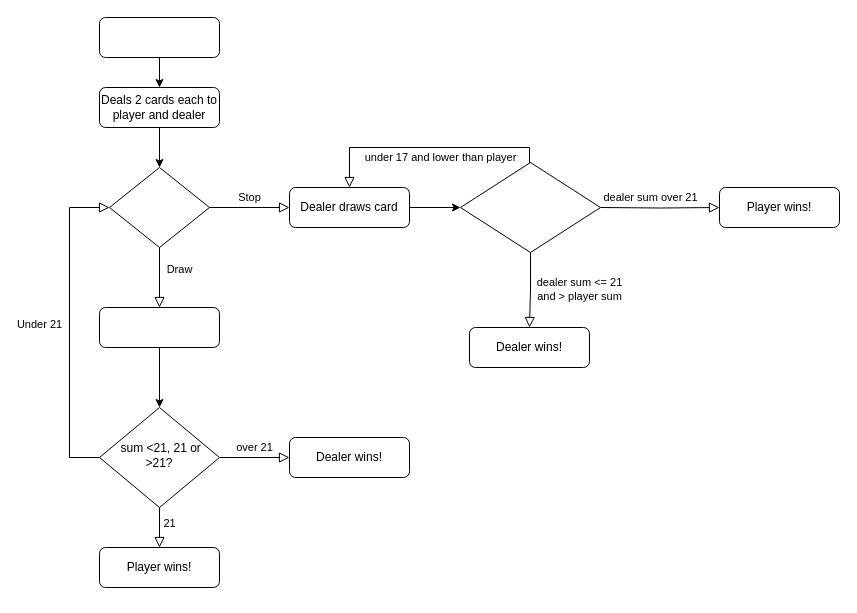
This 857x613 diagram has some shape labels left out. The centre of each missing label's shape, as x and y in pixels:
Dealer's sum < 17 or < player's sum?: the point at 530,207
Draw or stop?: the point at 159,207
Game start: the point at 159,37
Player draws card: the point at 159,327
